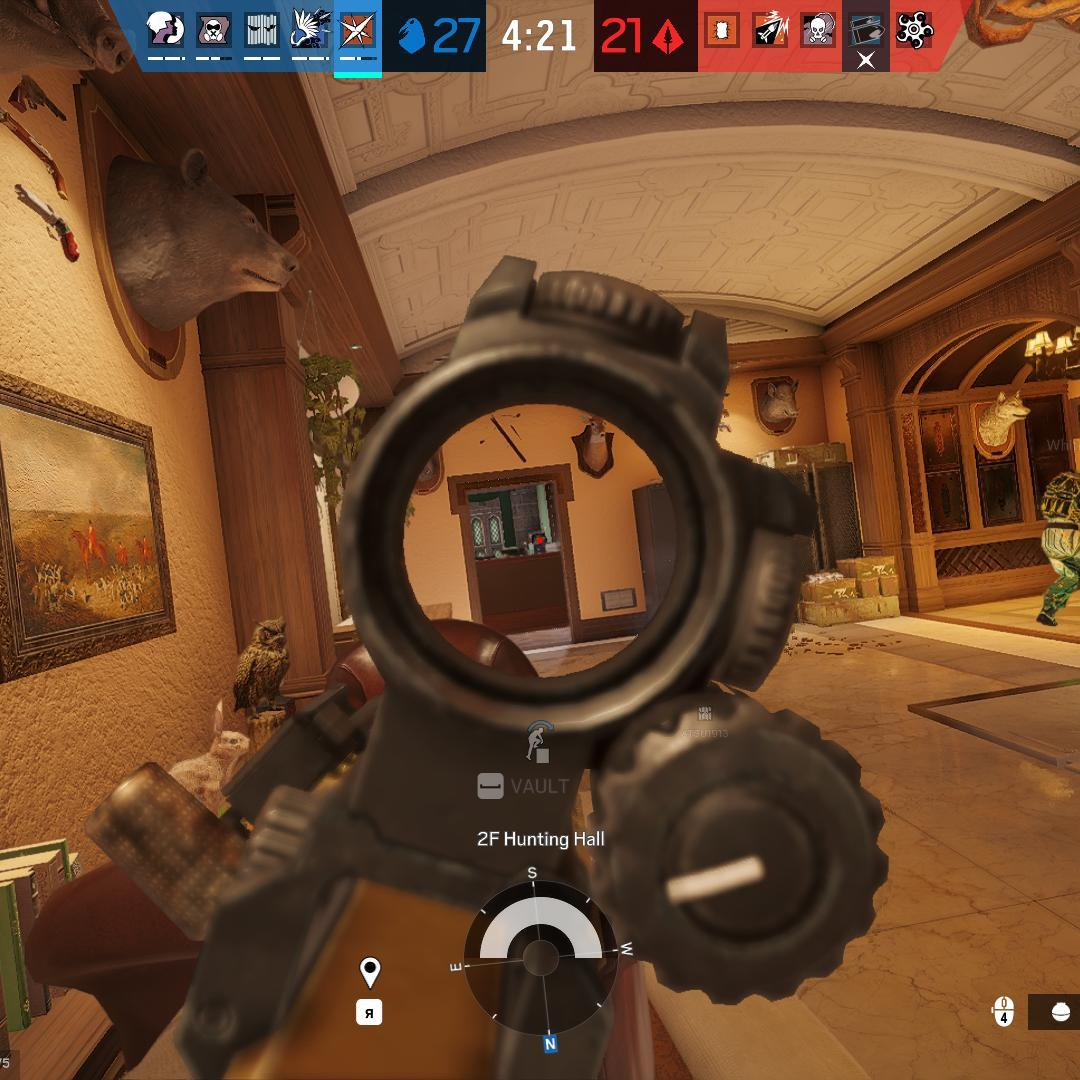Character: (1034, 466, 1080, 627)
Friend_label: (1043, 428, 1080, 457)
